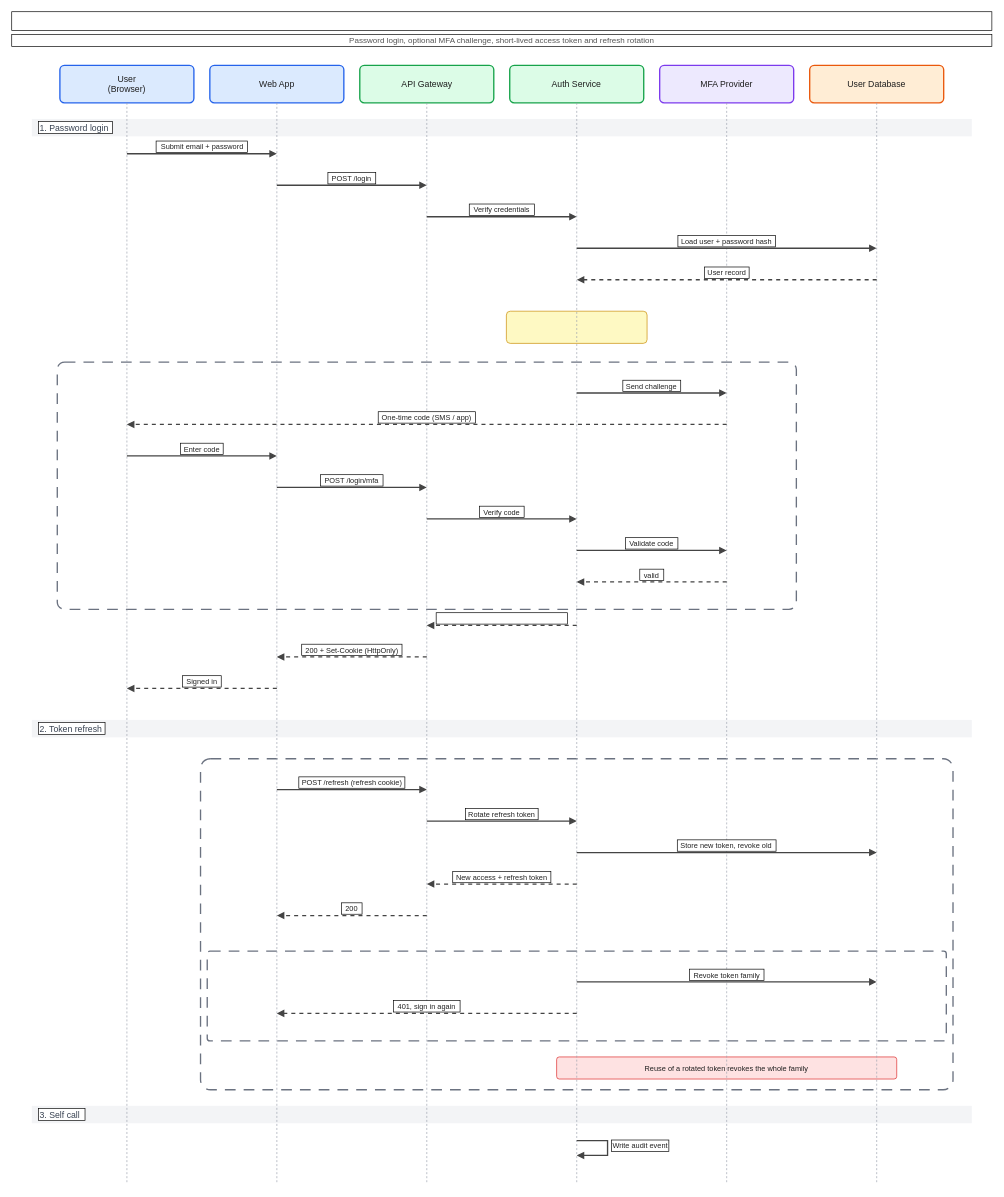
Image size: 1004x1197. Some labels were removed from this diagram. The shapes that lost their labels are listed below. From the top down, each one's box as (x1, y1, x2, y2) in pixels, then its label:
(11, 11, 992, 30): User login with token refresh
(506, 311, 647, 343): Compare with slow hash (argon2id); rate limit per account and per IP
(56, 361, 797, 610): alt MFA enabled for this user
(436, 612, 567, 624): Access token (15 min) + refresh token
(200, 758, 953, 1090): loop access token expires
(206, 950, 947, 1041): alt refresh token reused (theft)
